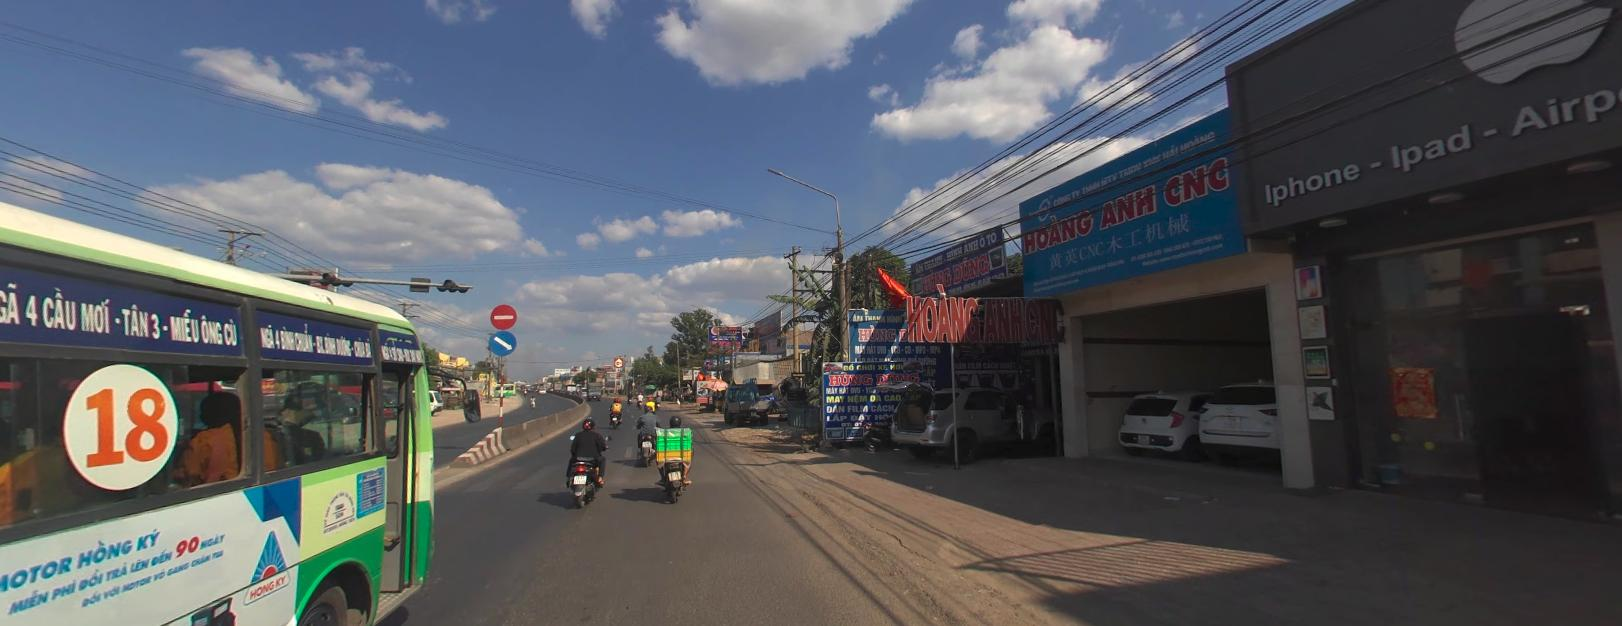Cam nguoc chieu: (490, 303, 516, 328)
Hieu lenh: (489, 329, 516, 355)
